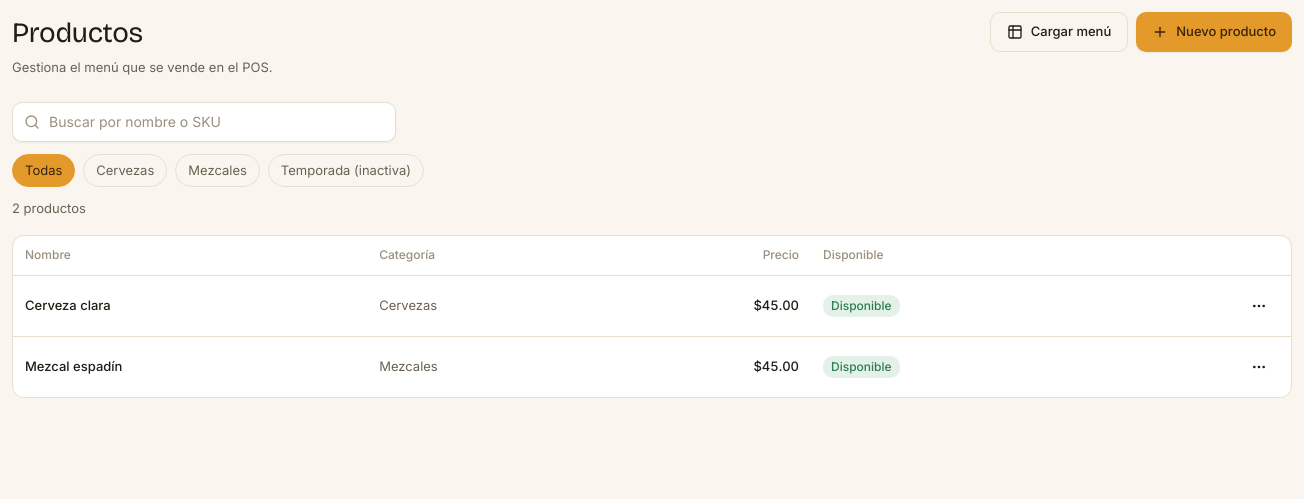
Test: ProductosPage · buscador › sin resultados no invita a crear: ofrece soltar el término
Expected: the text "Cerveza clara" is shown, [25, 297, 111, 313]
Type "tequila" into the field named "buscar productos" at coordinates (204, 122), box [12, 102, 396, 142]
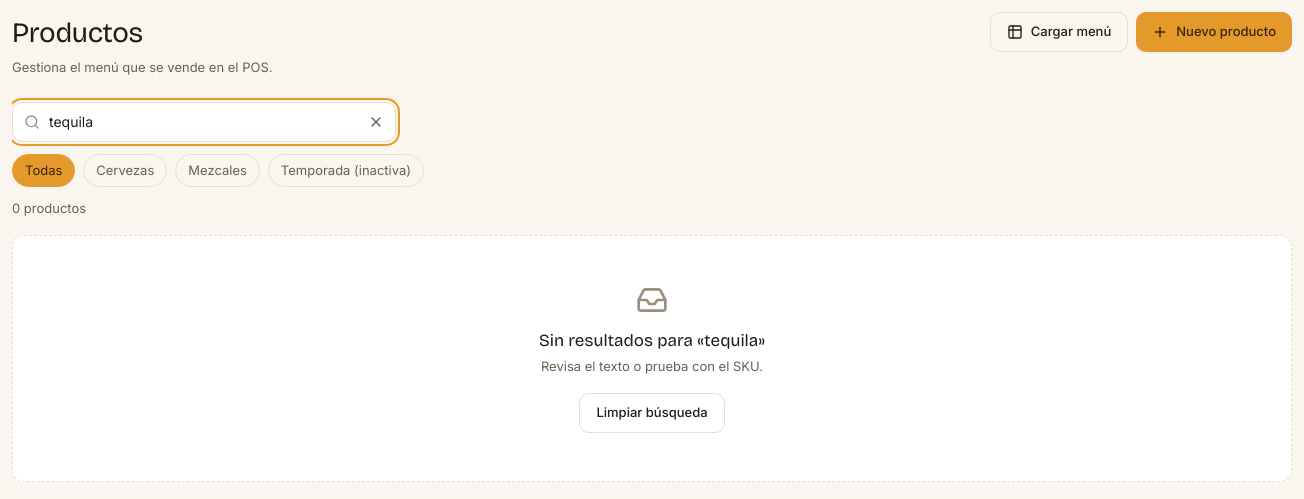
Now the text "Sin resultados para «tequila»" is shown, box [539, 328, 765, 353]
Click the button "Limpiar búsqueda" at coordinates (652, 412), box [579, 392, 724, 432]
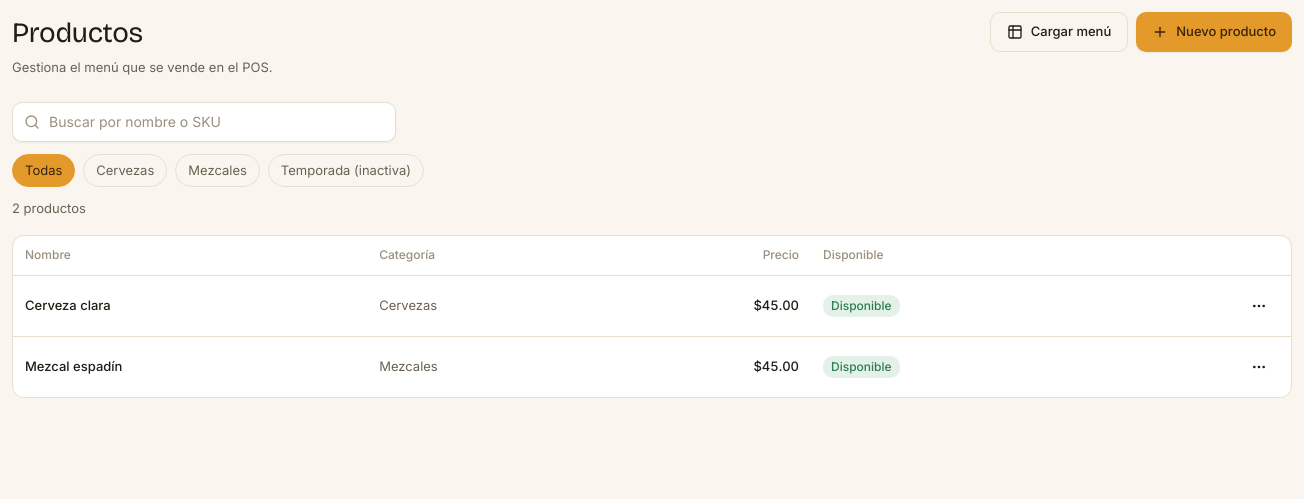
Now the text "Cerveza clara" is shown, box [25, 297, 111, 313]
Now the field named "buscar productos" is empty, box [12, 102, 396, 142]
